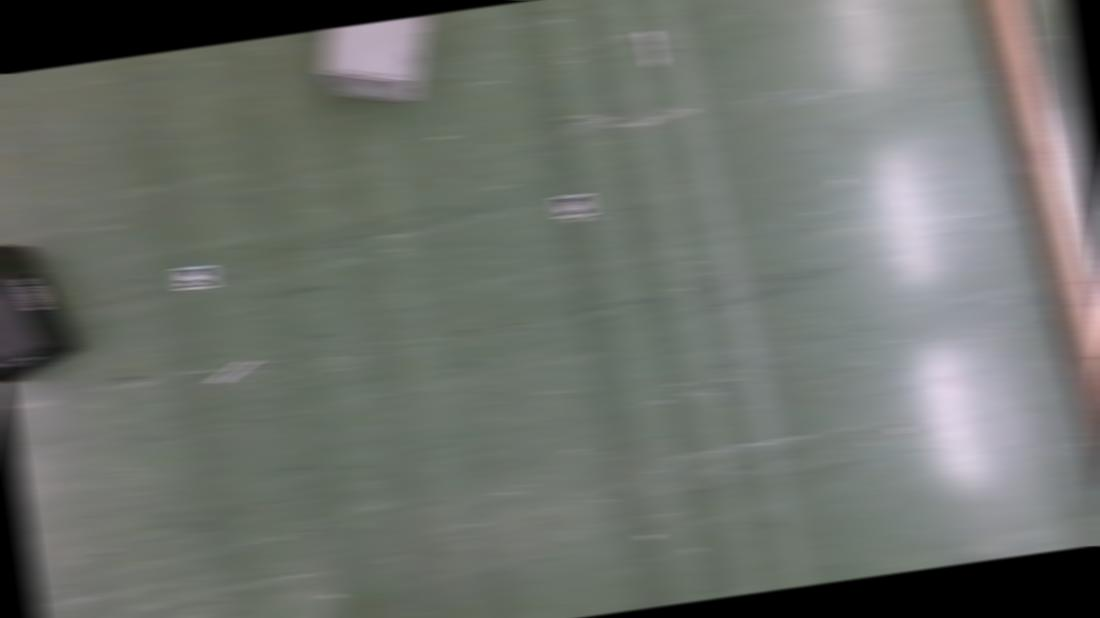probes: (210, 360, 260, 384), (638, 30, 664, 70)
rako: (0, 229, 83, 384), (312, 15, 440, 114)
